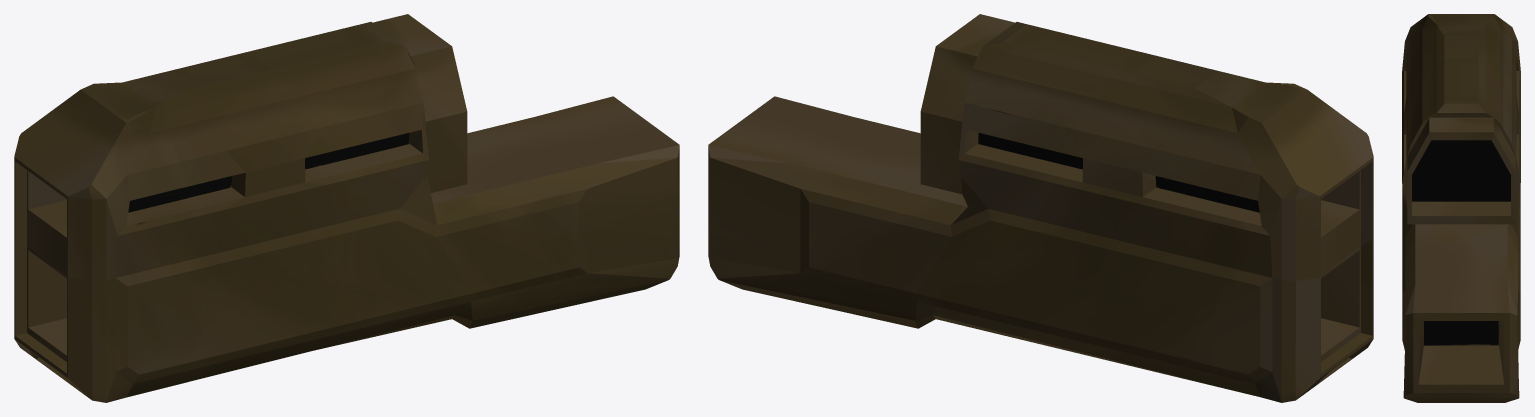
Rendered from ForearmDefoltAK(wood).fbx.
The picture shows the model from 3 angles, left to right: view 1: azimuth 30°, elevation 25°; view 2: azimuth 150°, elevation 25°; view 3: azimuth 270°, elevation 25°; orthographic projection. The views are drawn at different scales.
Parts seen in each view (by area): view 1: Forearm; view 2: Forearm; view 3: Forearm.
Part boxes in pixels (<box>): Forearm: <box>14,14,679,402</box>; Forearm: <box>708,14,1373,402</box>; Forearm: <box>1402,14,1520,402</box>.
Size of the model in its own units: 39.64 by 18.37 by 9.29.
